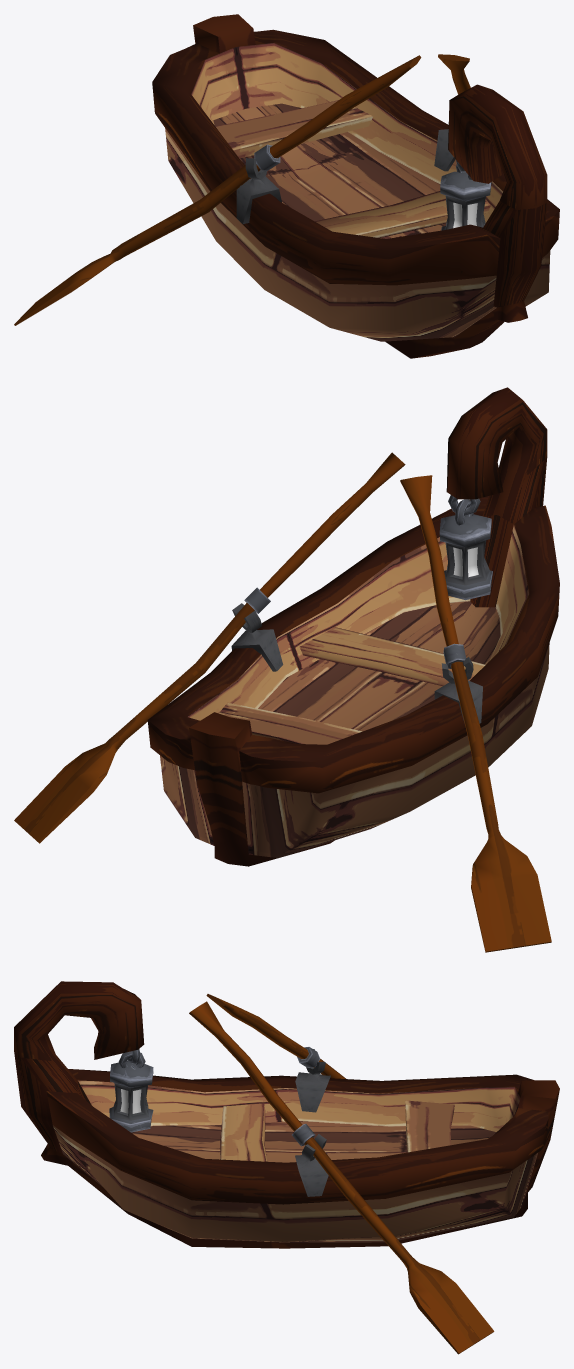
File: SM_PROP_rowboat.fbx
The picture shows the model from 3 angles, top to bottom: view 1: azimuth 30°, elevation 25°; view 2: azimuth 150°, elevation 25°; view 3: azimuth 270°, elevation 25°; orthographic projection. The views are drawn at different scales.
Parts seen in each view (by area): view 1: SM_PROP_rowboat, SM_PROP_rowboat_lantern; view 2: SM_PROP_rowboat, SM_PROP_rowboat_lantern; view 3: SM_PROP_rowboat, SM_PROP_rowboat_lantern.
Boxes of the visible parts, left/top/right/bottom form: SM_PROP_rowboat: left=14, top=14, right=559, bottom=358; SM_PROP_rowboat_lantern: left=440, top=160, right=491, bottom=230; SM_PROP_rowboat: left=14, top=387, right=559, bottom=952; SM_PROP_rowboat_lantern: left=439, top=495, right=492, bottom=600; SM_PROP_rowboat: left=14, top=981, right=559, bottom=1354; SM_PROP_rowboat_lantern: left=109, top=1049, right=153, bottom=1132.
Bounding box in the file's own units: 378 × 224 × 406.
